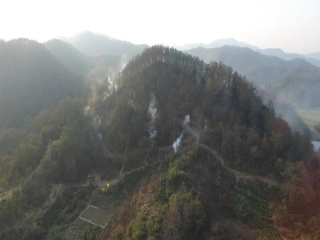smoke: (87, 64, 196, 161)
